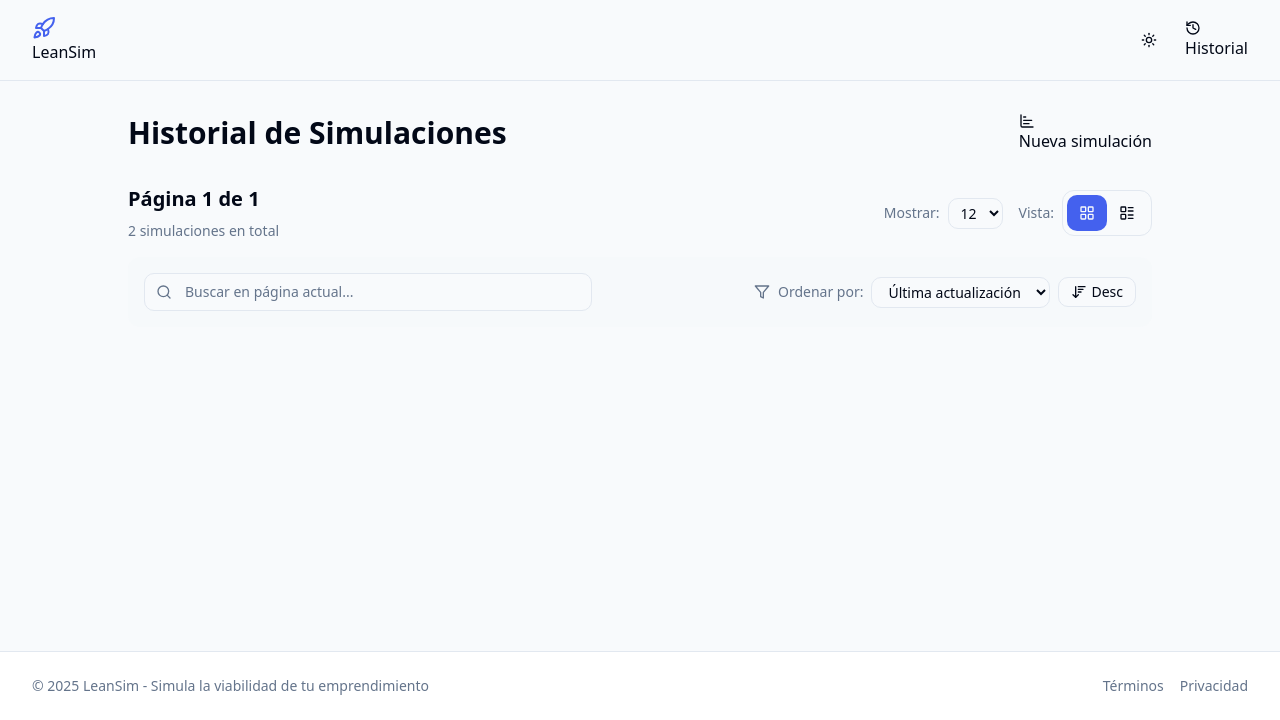
Test: HistorialPage › Search Functionality › should show no results message when search has no matches
Expected: the heading "Página 1 de 1" is shown, [128,185,279,213]
Search for something that doesn't exist
Type "NonExistentApp" into the field with placeholder "Buscar en página actual..." at (368, 292), box [144,273,592,311]
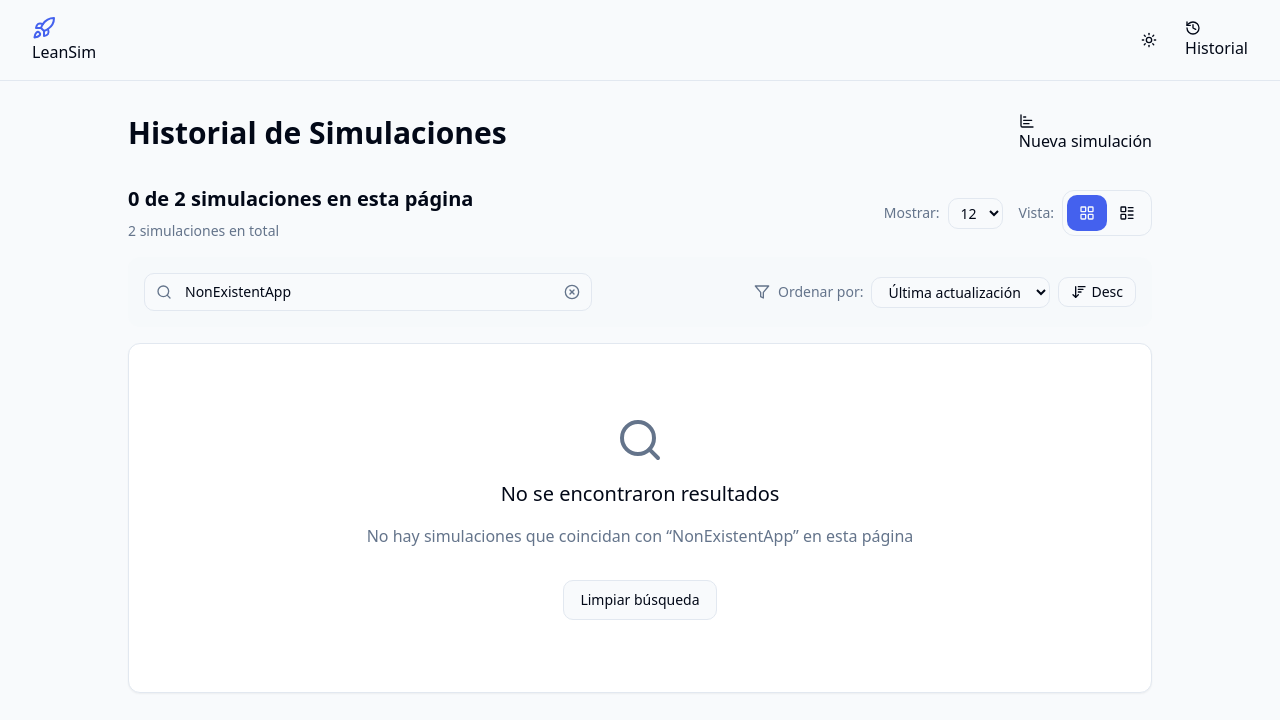
Now the heading "No se encontraron resultados" is shown, box [501,480,779,508]
Now the text "No hay simulaciones que coincidan con" is shown, box [367,525,672,547]
Now the button "Limpiar búsqueda" is shown, box [563,580,716,620]
